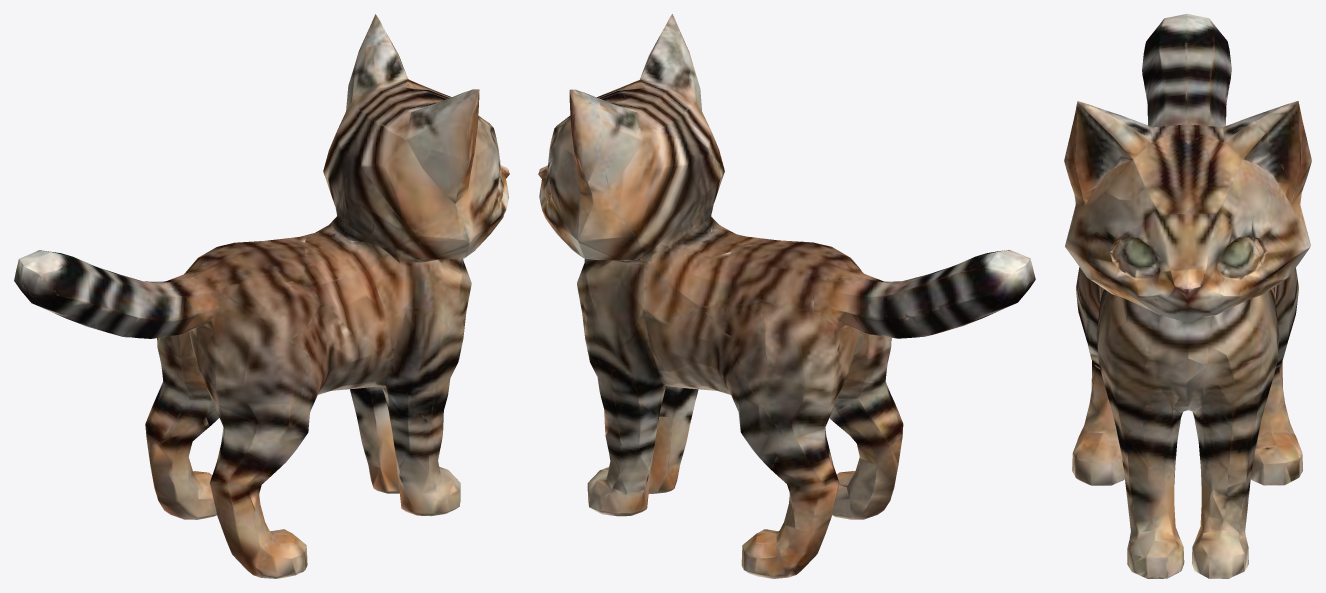
File: CANDLEWICK-lo.glb
3 views of the same model, side by side, from view 1: azimuth 30°, elevation 25°; view 2: azimuth 150°, elevation 25°; view 3: azimuth 270°, elevation 25° (orthographic). The views are drawn at different scales.
Visible parts, largest first — view 1: fit; view 2: fit; view 3: fit.
Boxes of the visible parts, bbox=[...] form: fit: bbox=[14, 14, 509, 578]; fit: bbox=[538, 14, 1035, 578]; fit: bbox=[1064, 14, 1311, 578].
Bounding box in the file's own units: 1.16 × 0.9993 × 0.4758.
1 material, 1 textured.
